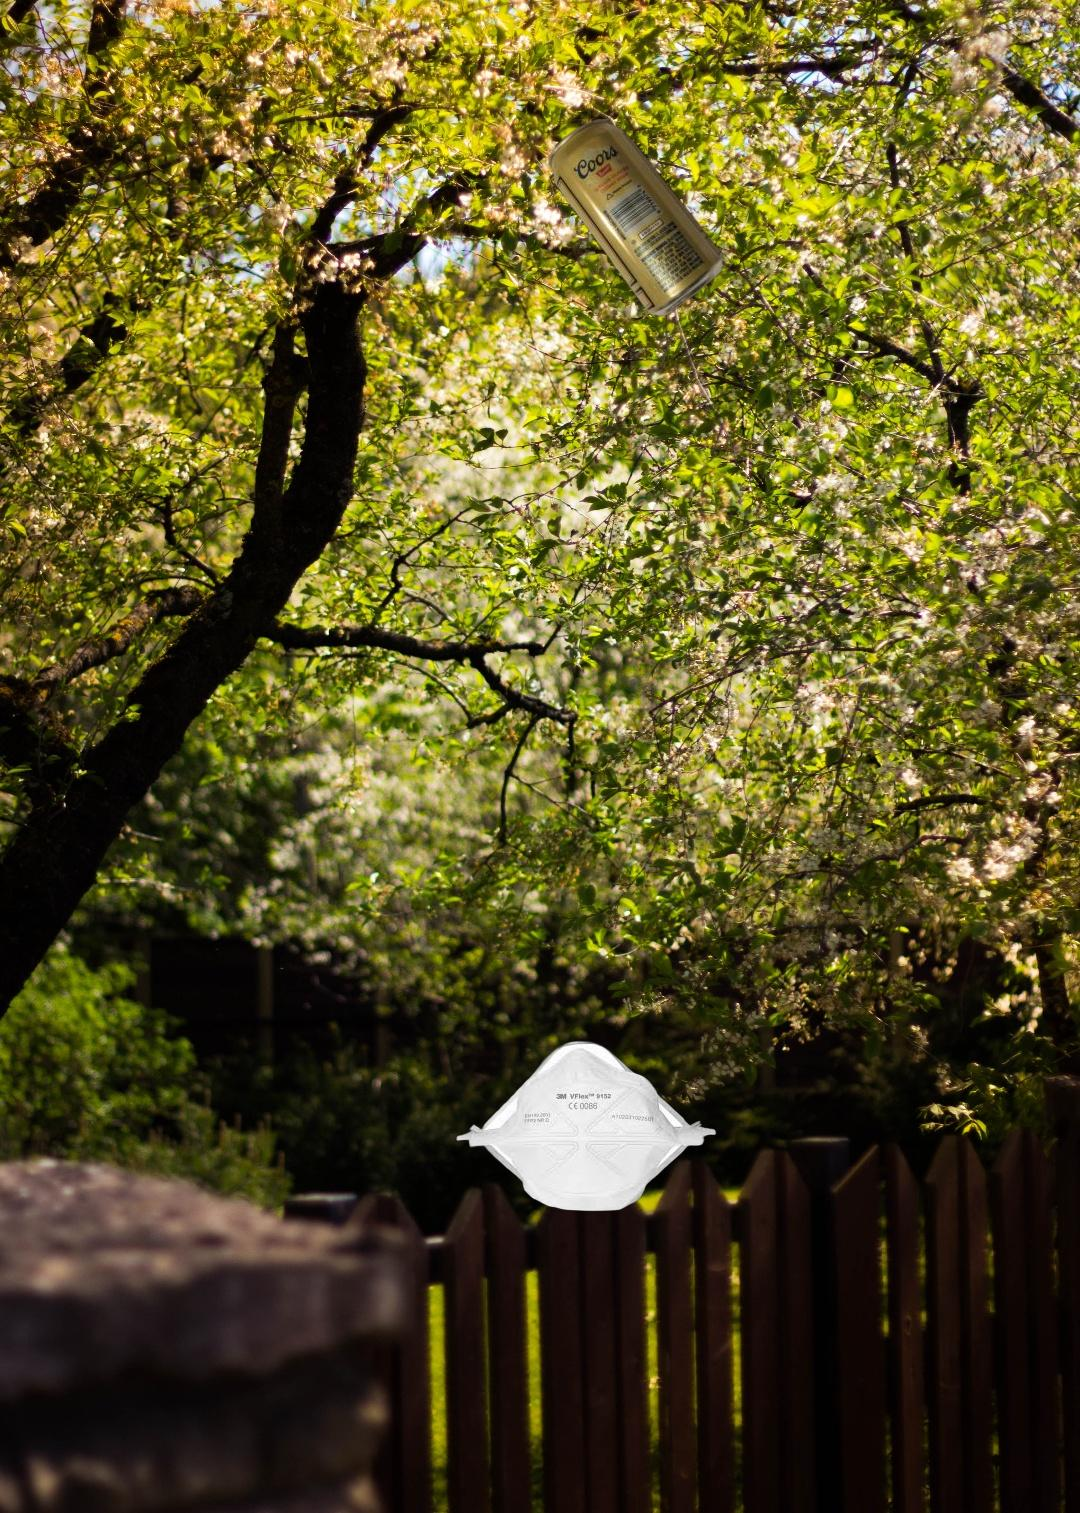metal-cans: (544, 114, 727, 320)
trash: (452, 1037, 719, 1214)
